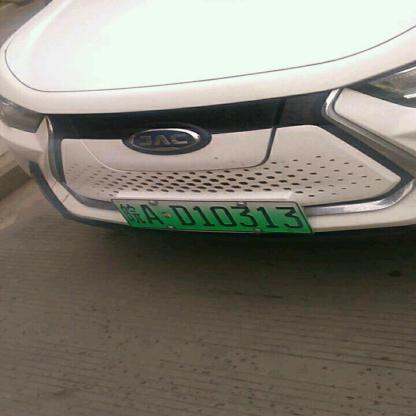lp: (112, 199, 313, 233)
